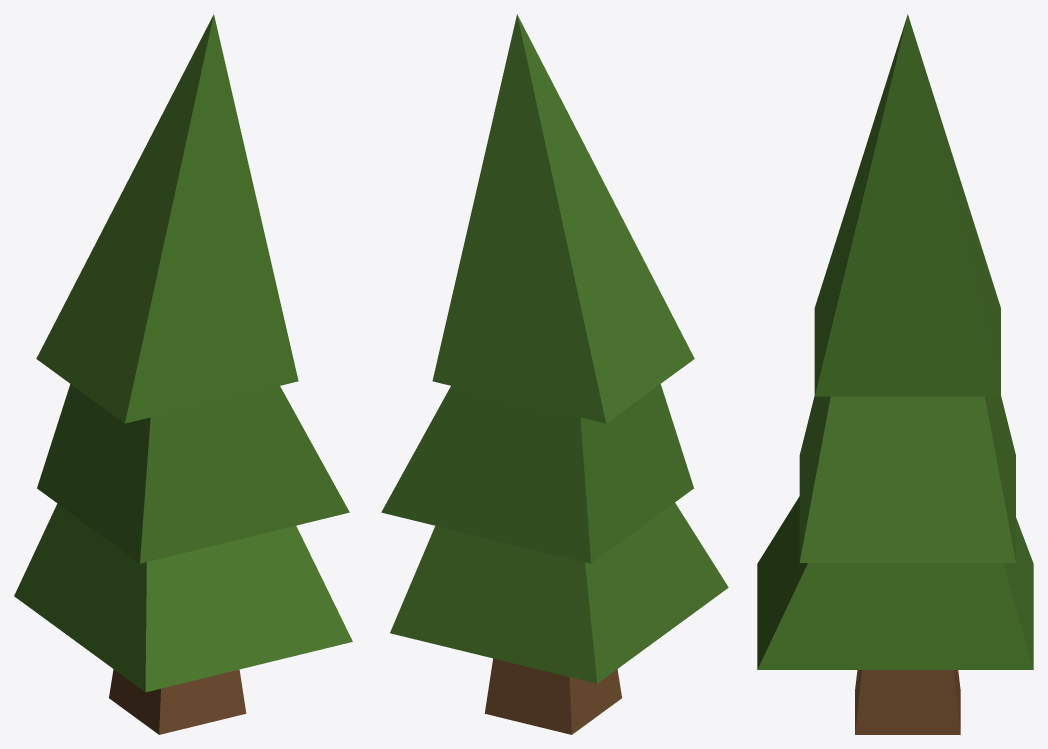
Rendered from tree_pineSmallC.glb.
3 renders of one model, left to right at view 1: azimuth 30°, elevation 25°; view 2: azimuth 150°, elevation 25°; view 3: azimuth 270°, elevation 25°, orthographic. The views are drawn at different scales.
Parts seen in each view (by area): view 1: tree_pineSmallC; view 2: tree_pineSmallC; view 3: tree_pineSmallC.
Boxes of the visible parts, x1=… form: tree_pineSmallC: x1=14, y1=14, x2=352, y2=734; tree_pineSmallC: x1=381, y1=14, x2=728, y2=734; tree_pineSmallC: x1=757, y1=14, x2=1033, y2=734.
Size of the model in its own units: 0.3863 by 1.12 by 0.3919.
